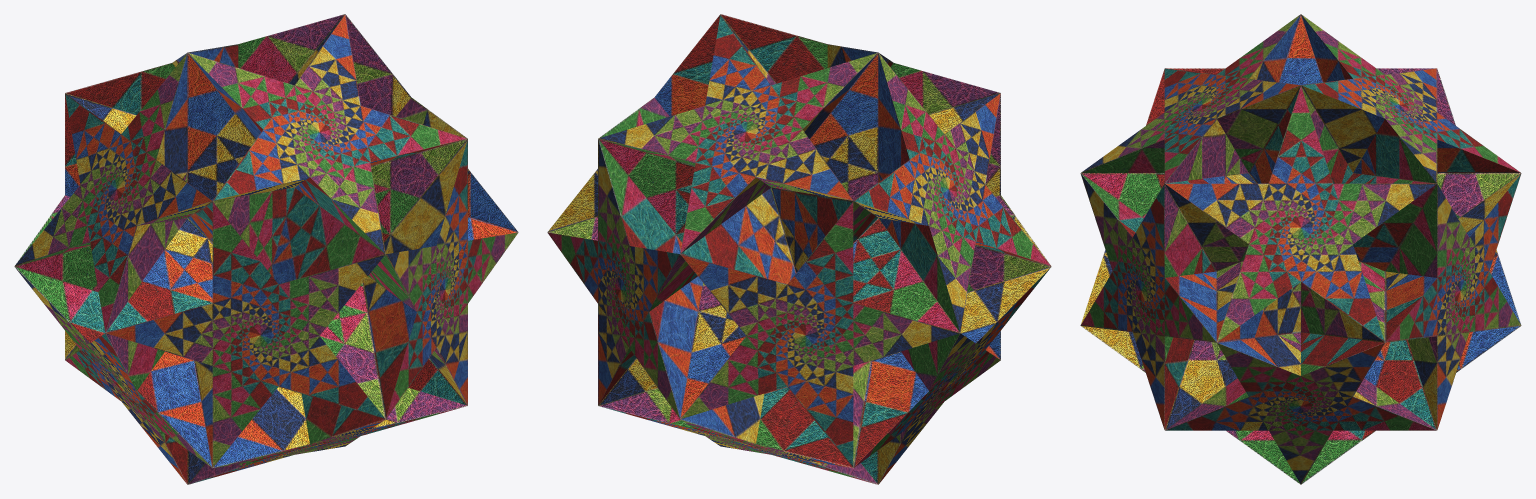
Rendered from DitrigonalDodecadodecahedron6.obj.
The picture shows the model from 3 angles, left to right: view 1: azimuth 30°, elevation 25°; view 2: azimuth 150°, elevation 25°; view 3: azimuth 270°, elevation 25°; orthographic projection. The views are drawn at different scales.
Size of the model in its own units: 1.62 by 1.62 by 1.62.
1 material, 1 textured.
